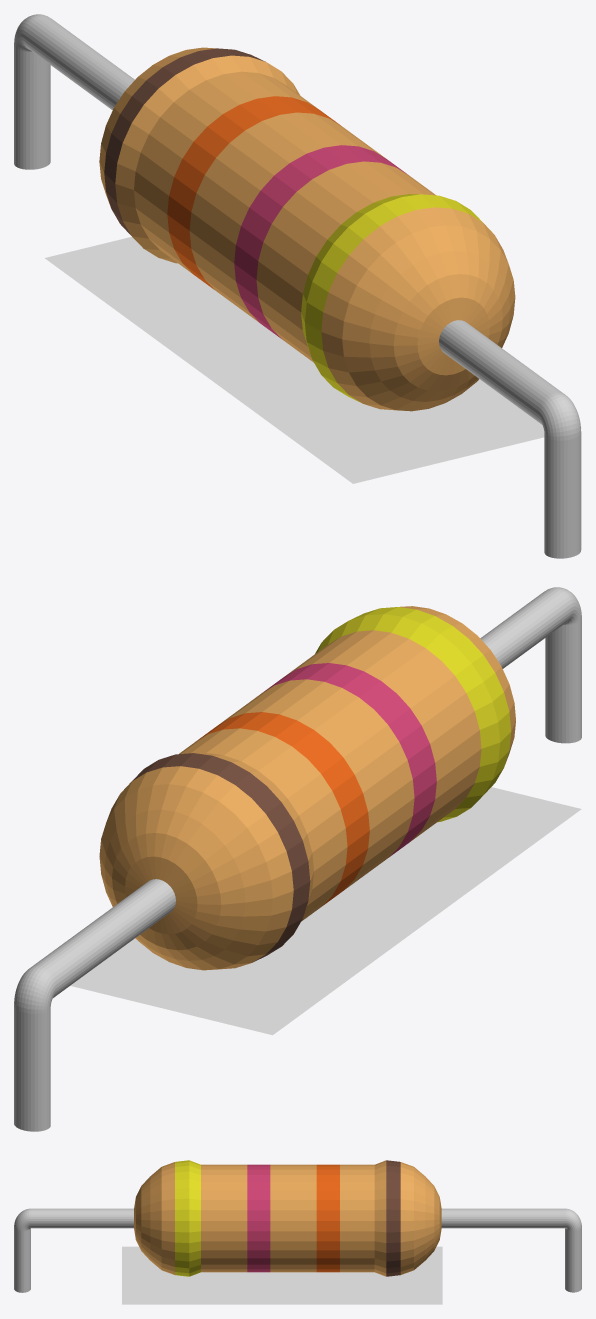
3 views of the same model, one above another, from view 1: azimuth 30°, elevation 25°; view 2: azimuth 150°, elevation 25°; view 3: azimuth 270°, elevation 25° (orthographic). The views are drawn at different scales.
Parts seen in each view (by area): view 1: R_26, R_26_plane; view 2: R_26, R_26_plane; view 3: R_26, R_26_plane.
Part boxes in pixels (x1,y1,x2,y2): R_26: [14, 14, 581, 558]; R_26_plane: [45, 237, 581, 483]; R_26: [14, 587, 581, 1131]; R_26_plane: [70, 787, 581, 1035]; R_26: [14, 1160, 581, 1292]; R_26_plane: [122, 1246, 442, 1304].
Bounding box in the file's own units: 0.0161 × 0.0159 × 0.0664.
